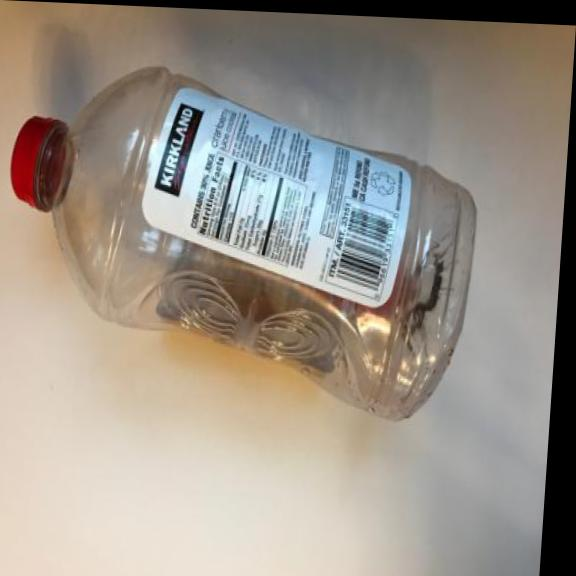Plastik: (0, 46, 501, 431)
